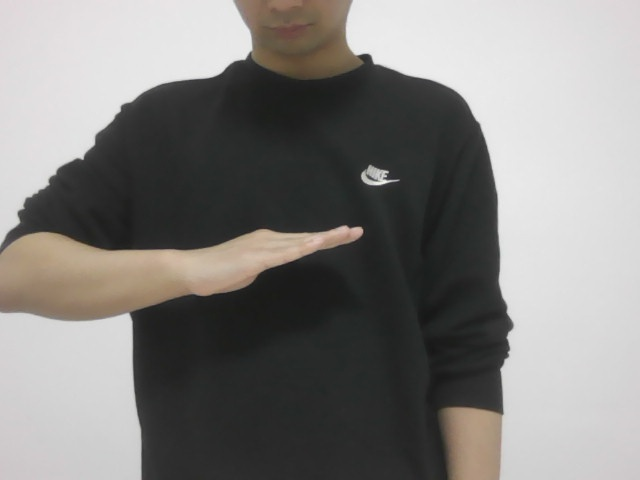safe: (180, 214, 362, 302)
